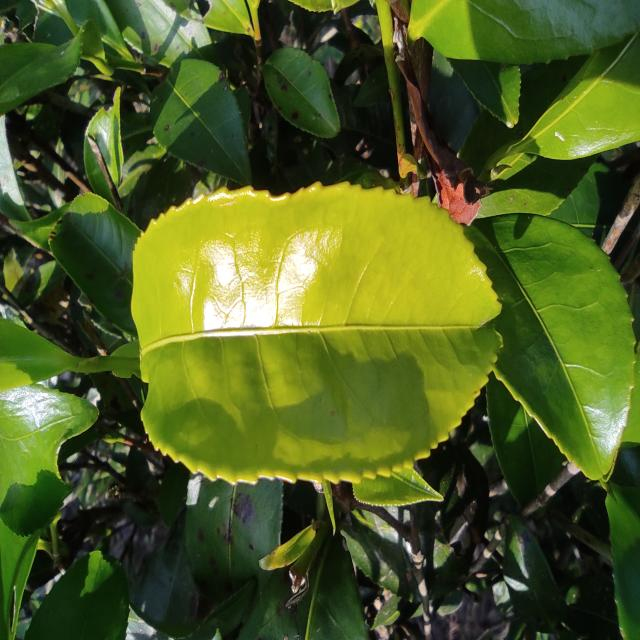Category B(2-4 days): (108, 163, 515, 498)
